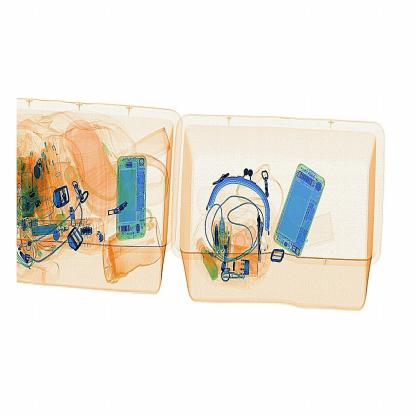knife: (254, 212, 270, 268)
